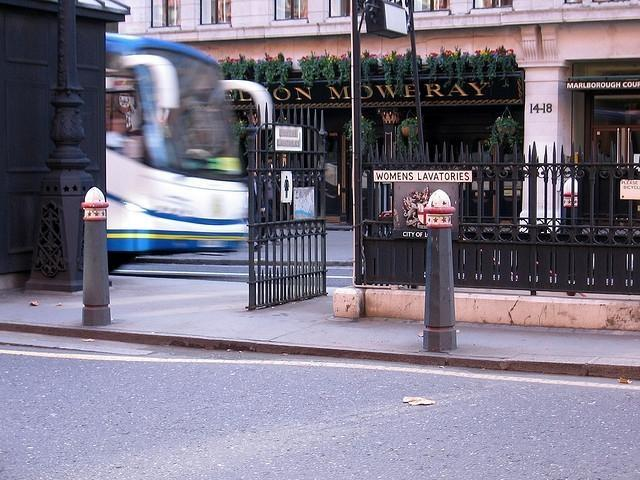bus: (106, 29, 252, 252)
